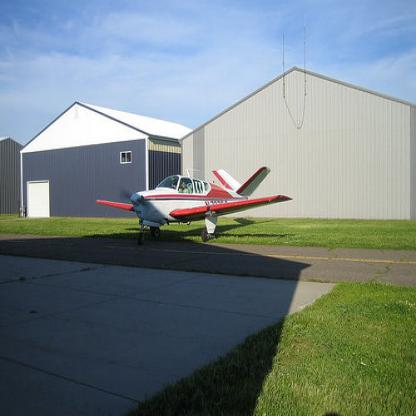aeroplane: (95, 163, 293, 246)
